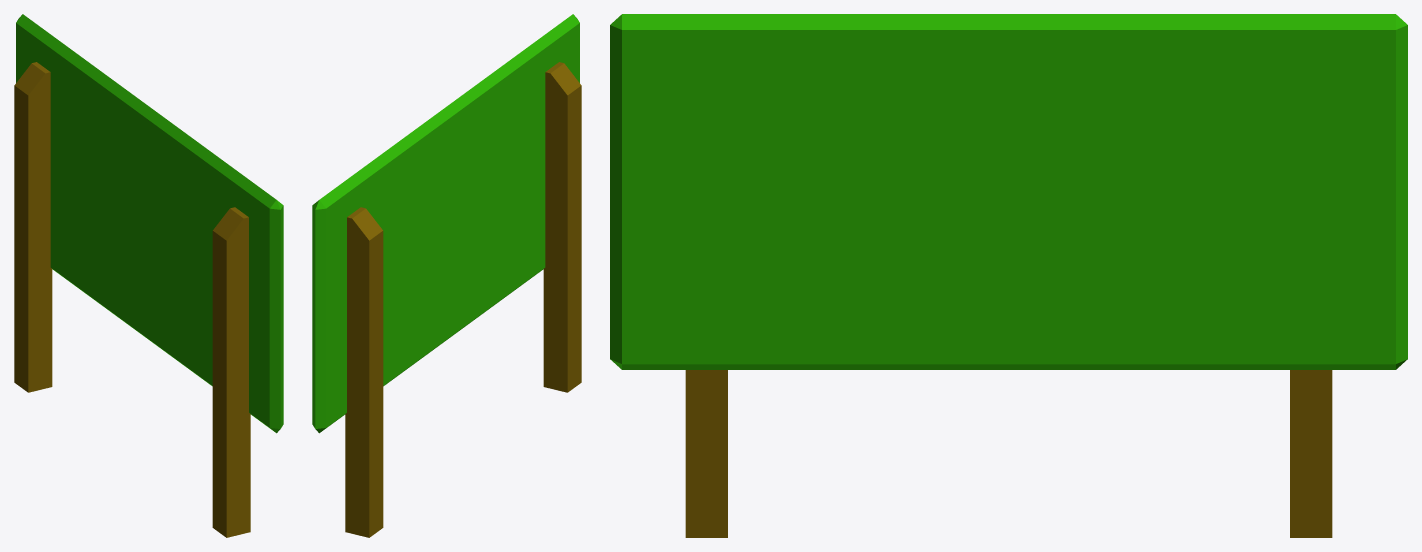
File: mod_building_roadSign.fbx
The picture shows the model from 3 angles, left to right: view 1: azimuth 30°, elevation 25°; view 2: azimuth 150°, elevation 25°; view 3: azimuth 270°, elevation 25°; orthographic projection. The views are drawn at different scales.
Parts seen in each view (by area): view 1: mesh_building_roadSign; view 2: mesh_building_roadSign; view 3: mesh_building_roadSign.
Boxes of the visible parts, <box> form: mesh_building_roadSign: <box>14,14,283,537</box>; mesh_building_roadSign: <box>312,14,581,537</box>; mesh_building_roadSign: <box>610,14,1407,537</box>.
Bounding box in the file's own units: 42 × 385 × 528.
1 material, 1 textured.
